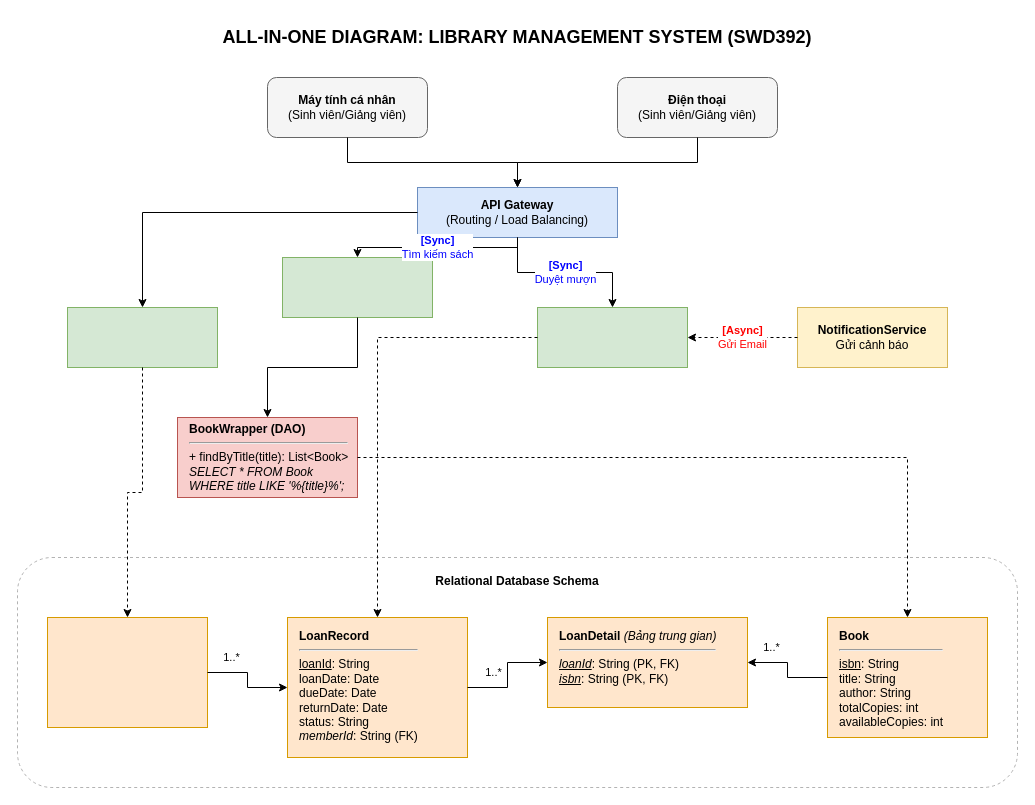
This 1035x805 diagram has some shape labels left out. The centre of each missing label's shape, as x and y in pixels:
BookService Quản lý Sách: point 357,287
LoanService Mượn / Trả: point 612,337
Member memberId : String name: String email: String type: String: point 127,672
UserService Quản lý & Xác thực: point 142,337
